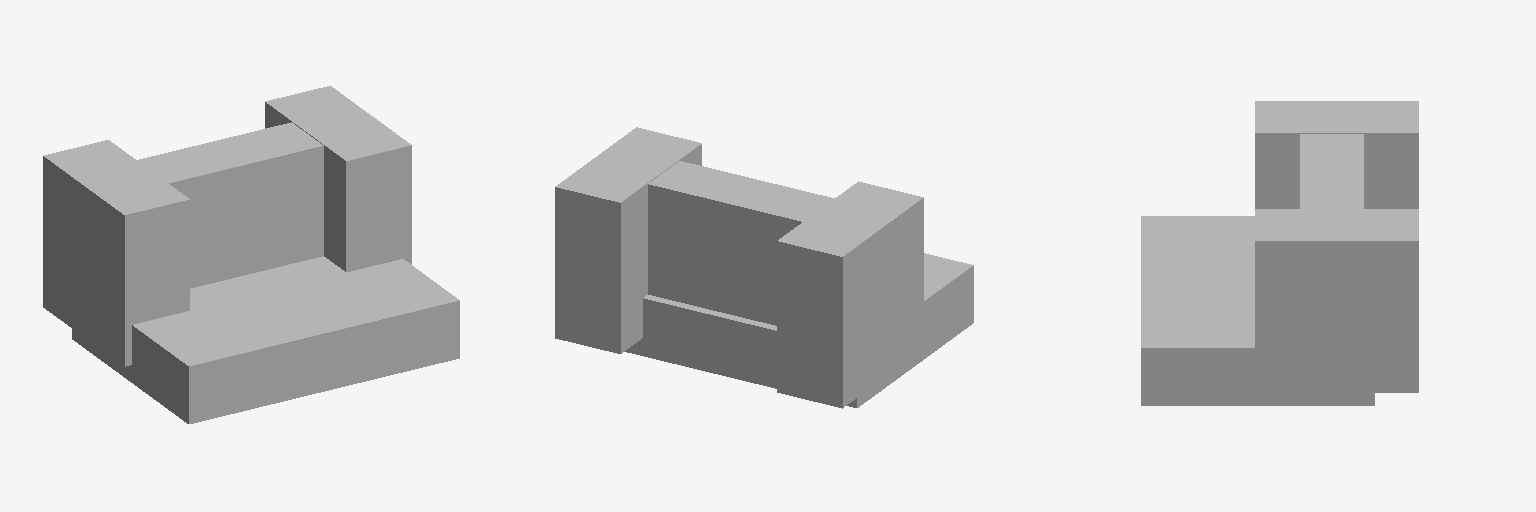
File: bossThrone.obj
3 views of the same model, side by side, from view 1: azimuth 30°, elevation 25°; view 2: azimuth 150°, elevation 25°; view 3: azimuth 270°, elevation 25° (orthographic).
Visible parts, largest first — view 1: Throne; view 2: Throne; view 3: Throne.
Boxes of the visible parts, x1=… form: Throne: x1=43, y1=86, x2=459, y2=423; Throne: x1=555, y1=127, x2=973, y2=408; Throne: x1=1141, y1=101, x2=1418, y2=405.
Size of the model in its own units: 15.55 by 8.75 by 12.97.